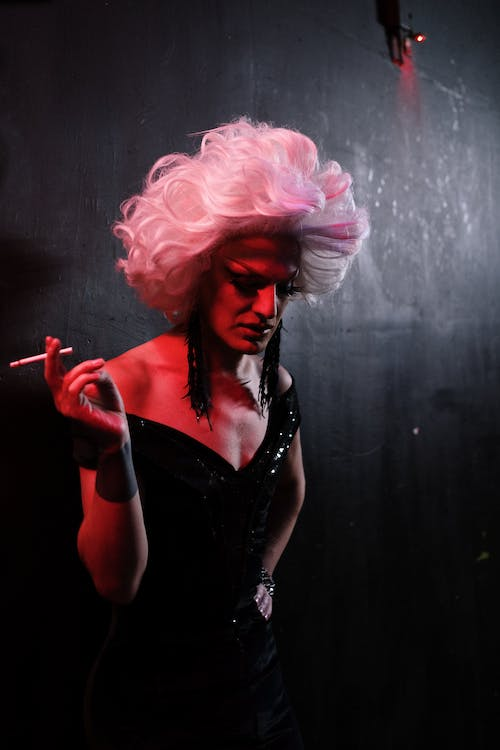cigarette: (6, 343, 76, 372)
